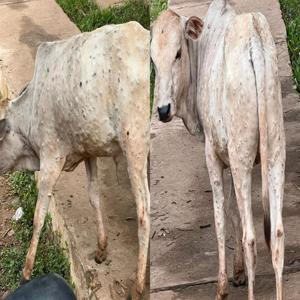lumpy skin diesease: (0, 20, 152, 299), (149, 0, 286, 299)
